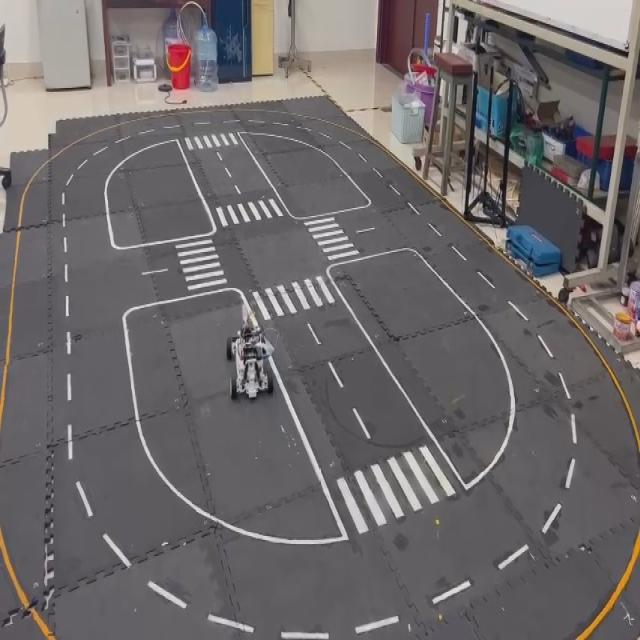SiCo-CAR: (225, 303, 279, 400)
